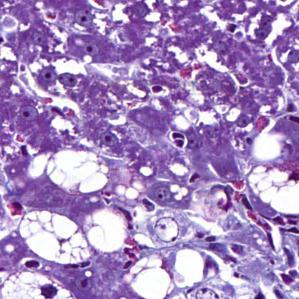ballooning: (242, 113, 297, 217), (17, 208, 93, 266), (44, 148, 111, 196), (122, 251, 174, 297)
